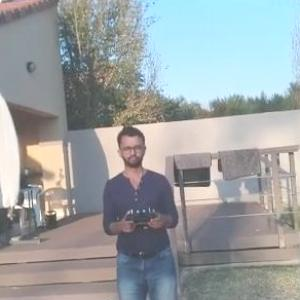follow: (97, 123, 186, 299)
